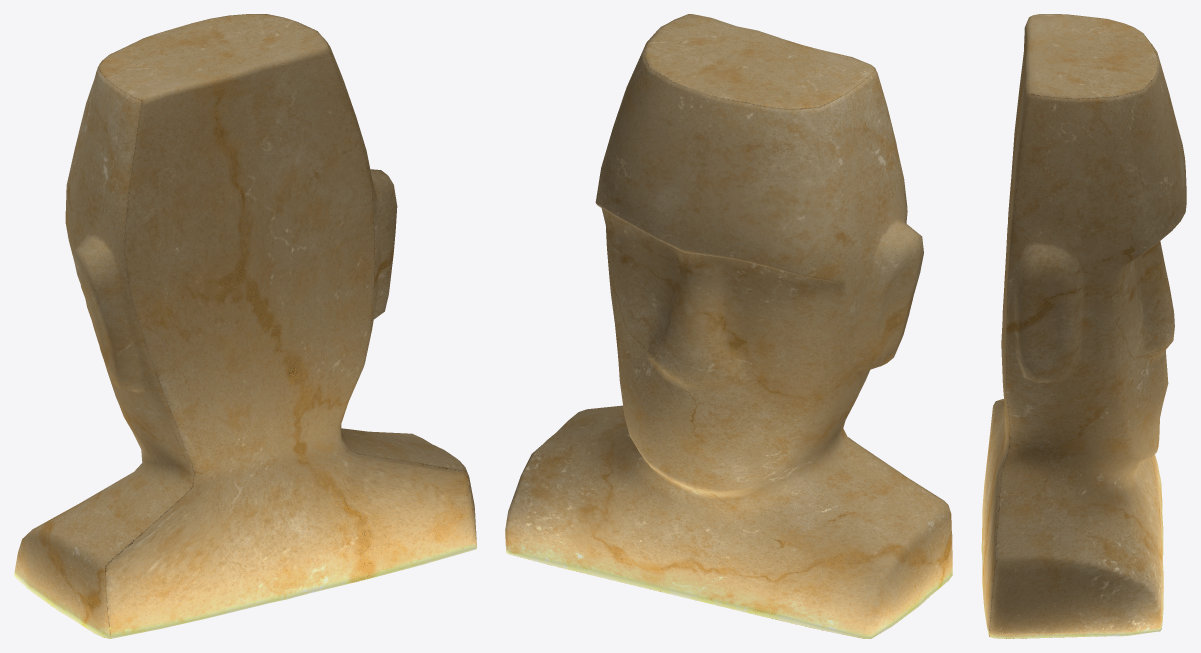
The model's file is Statute1 (6.5, -3.49943, 1.2).glb.
The picture shows the model from 3 angles, left to right: view 1: azimuth 30°, elevation 25°; view 2: azimuth 150°, elevation 25°; view 3: azimuth 270°, elevation 25°; orthographic projection. The views are drawn at different scales.
Visible parts, largest first — view 1: Statue 1.001; view 2: Statue 1.001; view 3: Statue 1.001.
Part boxes in pixels (bbox=[...]): Statue 1.001: bbox=[14, 14, 476, 638]; Statue 1.001: bbox=[505, 14, 952, 638]; Statue 1.001: bbox=[981, 14, 1186, 638].
Size of the model in its own units: 0.4627 by 0.5994 by 0.2292.
1 material, 1 textured.
